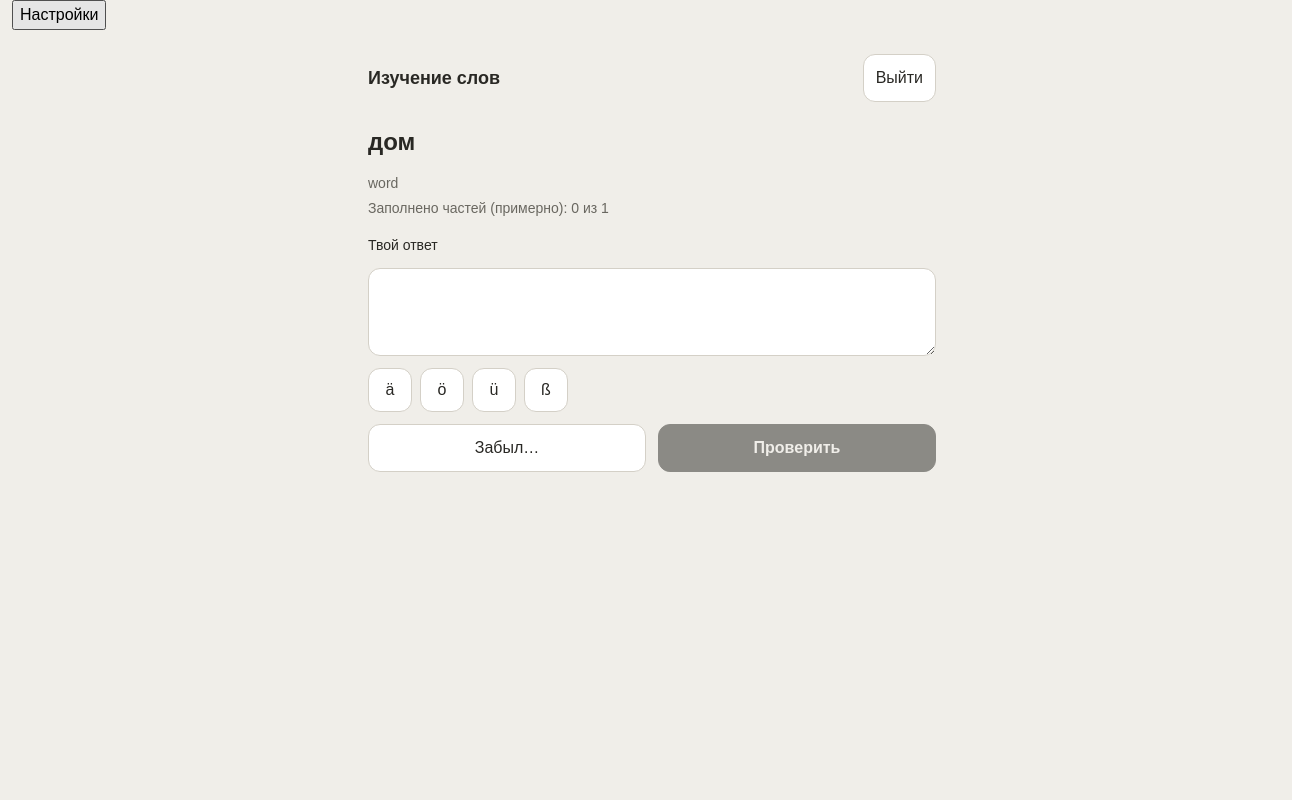
Test: LearningHost with real document owners and synthetic HTTP › keeps the same owner and draft across Settings, with no hidden presentation
In the text box: [652, 312] box left=368, top=268, right=936, bottom=356, type "unsent retained draft"
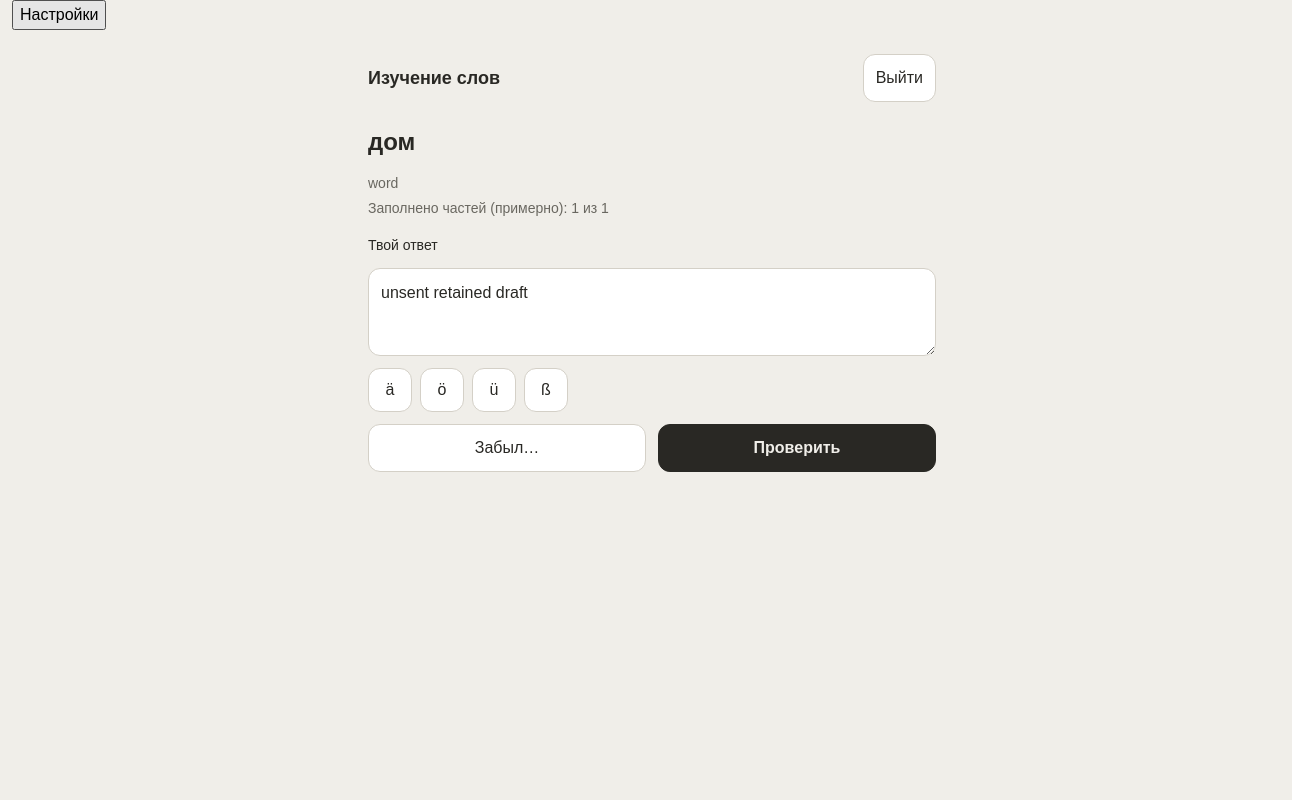
Click the button "Настройки": [59, 15] box left=12, top=0, right=106, bottom=30
(page scrolled)
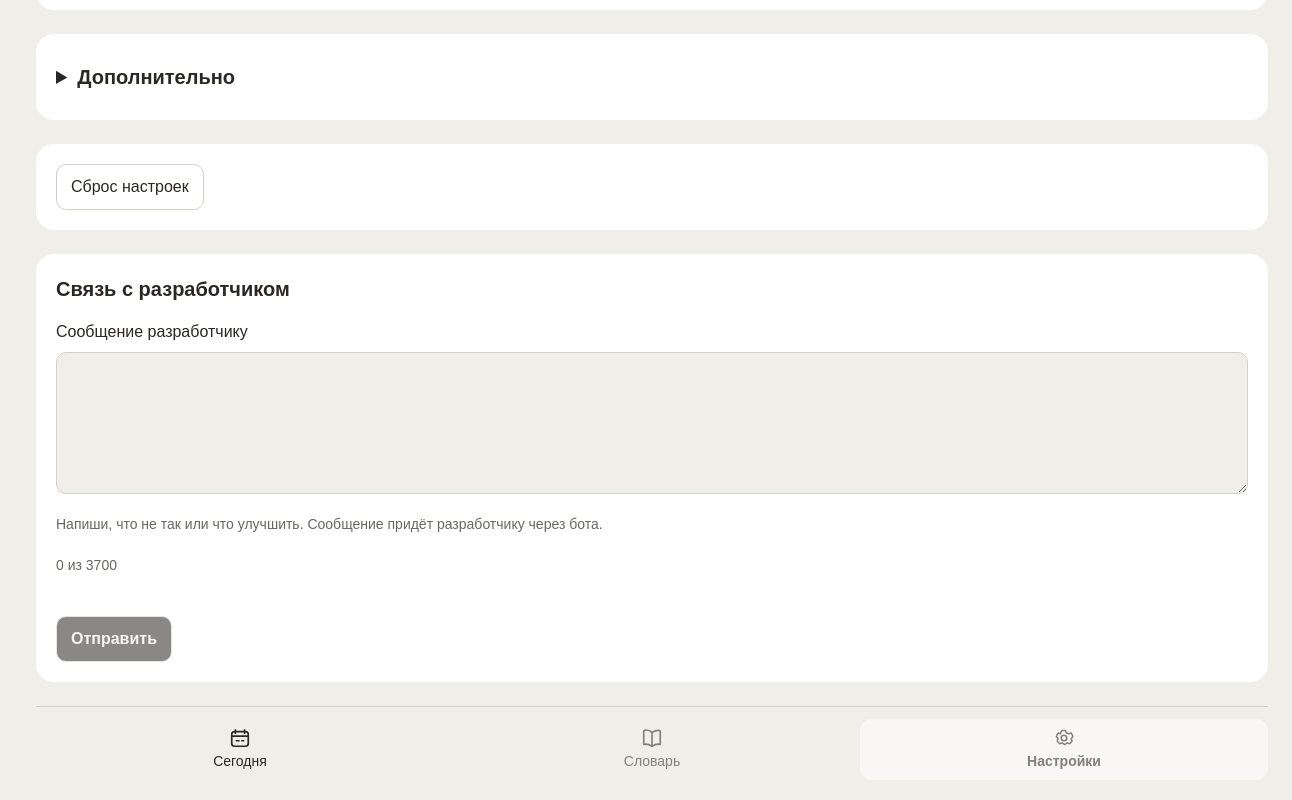
Click the button "Сегодня": [240, 750] box left=36, top=719, right=444, bottom=780
(page scrolled)
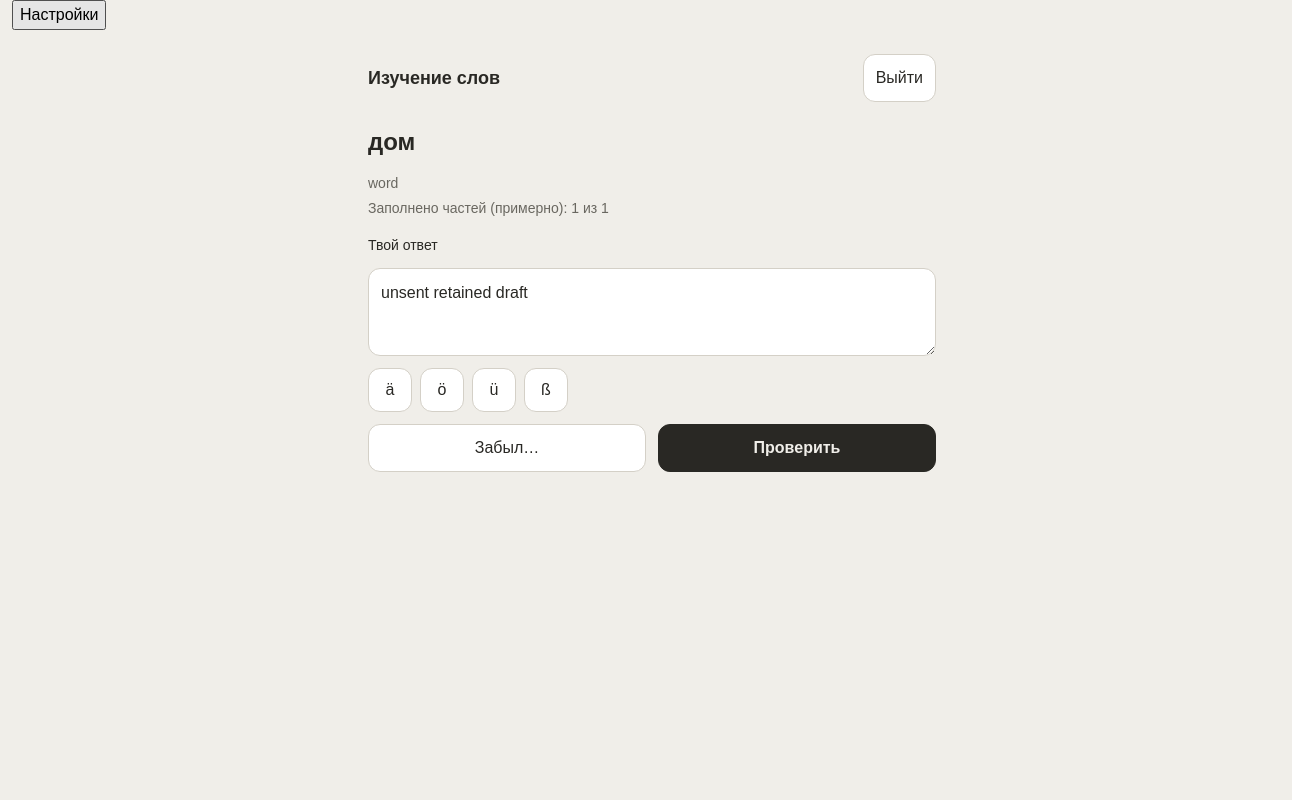
Result: the text box holds "unsent retained draft" at left=368, top=268, right=936, bottom=356
